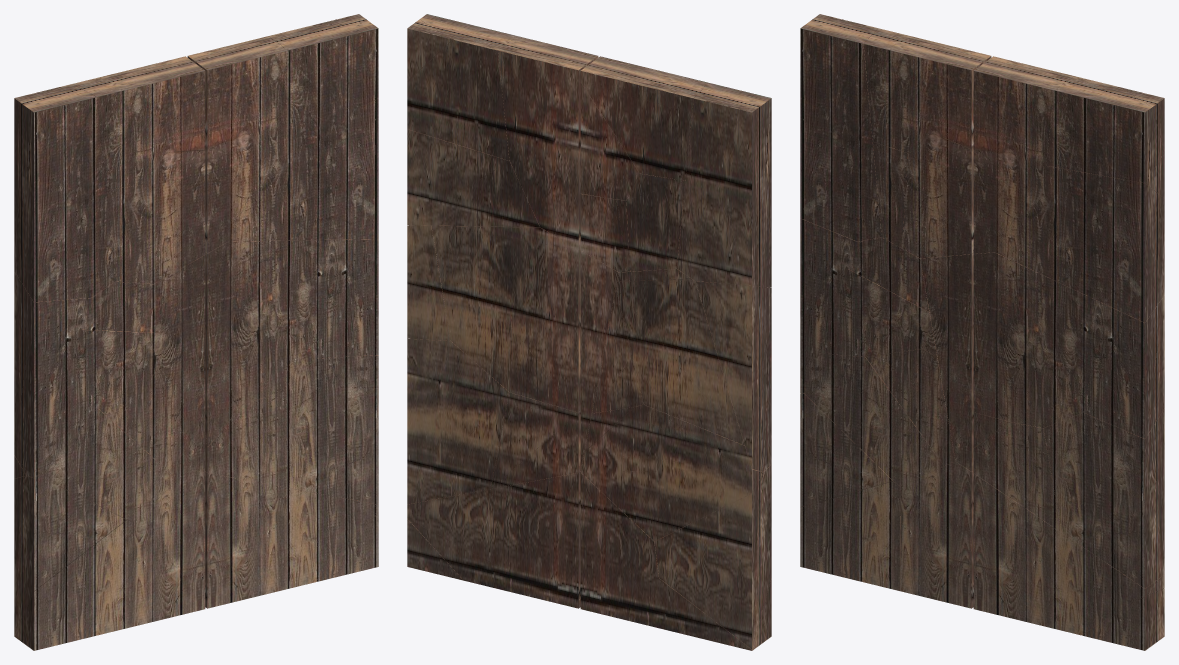
File: target_door_broken.fbx
3 renders of one model, left to right at view 1: azimuth 30°, elevation 25°; view 2: azimuth 150°, elevation 25°; view 3: azimuth 330°, elevation 25°, orthographic.
Visible parts, largest first — view 1: door.002_cell.001, door.002_cell.004_cell, door.002_cell.014, door.002_cell.011, door.002_cell.013, door.002_cell.004_cell.001, door.002_cell.005_cell, door.002_cell.010, door.002_cell, door.002_cell.002_cell.001, door.002_cell.003, door.002_cell.008 (+12 smaller); view 2: door.002_cell.004_cell, door.002_cell.001, door.002_cell.014, door.002_cell.002_cell.001, door.002_cell.013, door.002_cell.004_cell.001, door.002_cell.002_cell.007, door.002_cell.006, door.002_cell.008, door.002_cell.005_cell, door.002_cell.011, door.002_cell.003 (+13 smaller); view 3: door.002_cell.004_cell, door.002_cell.011, door.002_cell.004_cell.001, door.002_cell.014, door.002_cell.001, door.002_cell.013, door.002_cell.005_cell, door.002_cell.008, door.002_cell.010, door.002_cell.002_cell.001, door.002_cell, door.002_cell.004_cell.002 (+13 smaller).
Part boxes in pixels (bbox=[...]): door.002_cell.001: bbox=[14, 84, 115, 302]; door.002_cell.004_cell: bbox=[205, 239, 337, 411]; door.002_cell.014: bbox=[205, 471, 378, 608]; door.002_cell.011: bbox=[228, 99, 378, 241]; door.002_cell.013: bbox=[187, 36, 287, 253]; door.002_cell.004_cell.001: bbox=[277, 355, 378, 504]; door.002_cell.005_cell: bbox=[73, 56, 205, 190]; door.002_cell.010: bbox=[133, 469, 205, 626]; door.002_cell: bbox=[14, 520, 133, 650]; door.002_cell.002_cell.001: bbox=[14, 409, 177, 521]; door.002_cell.003: bbox=[14, 272, 91, 477]; door.002_cell.008: bbox=[268, 23, 378, 129]; door.002_cell.004_cell: bbox=[431, 225, 580, 412]; door.002_cell.001: bbox=[677, 83, 771, 287]; door.002_cell.014: bbox=[407, 471, 580, 608]; door.002_cell.002_cell.001: bbox=[581, 404, 763, 541]; door.002_cell.013: bbox=[498, 36, 598, 249]; door.002_cell.004_cell.001: bbox=[407, 338, 509, 504]; door.002_cell.002_cell.007: bbox=[616, 278, 744, 445]; door.002_cell.006: bbox=[654, 464, 771, 649]; door.002_cell.008: bbox=[407, 14, 517, 160]; door.002_cell.005_cell: bbox=[580, 56, 707, 180]; door.002_cell.011: bbox=[407, 129, 539, 227]; door.002_cell.003: bbox=[695, 281, 771, 471]; door.002_cell.004_cell: bbox=[973, 252, 1103, 427]; door.002_cell.011: bbox=[995, 166, 1164, 322]; door.002_cell.004_cell.001: bbox=[1043, 409, 1164, 588]; door.002_cell.014: bbox=[973, 474, 1164, 635]; door.002_cell.001: bbox=[800, 14, 881, 241]; door.002_cell.013: bbox=[973, 56, 1073, 253]; door.002_cell.005_cell: bbox=[863, 28, 991, 152]; door.002_cell.008: bbox=[1046, 76, 1164, 198]; door.002_cell.010: bbox=[900, 461, 973, 608]; door.002_cell.002_cell.001: bbox=[804, 353, 944, 486]; door.002_cell: bbox=[800, 481, 900, 590]; door.002_cell.004_cell.002: bbox=[1083, 295, 1164, 438].
Bounding box in the file's own units: 402 × 600 × 40.
1 material, 1 textured.
